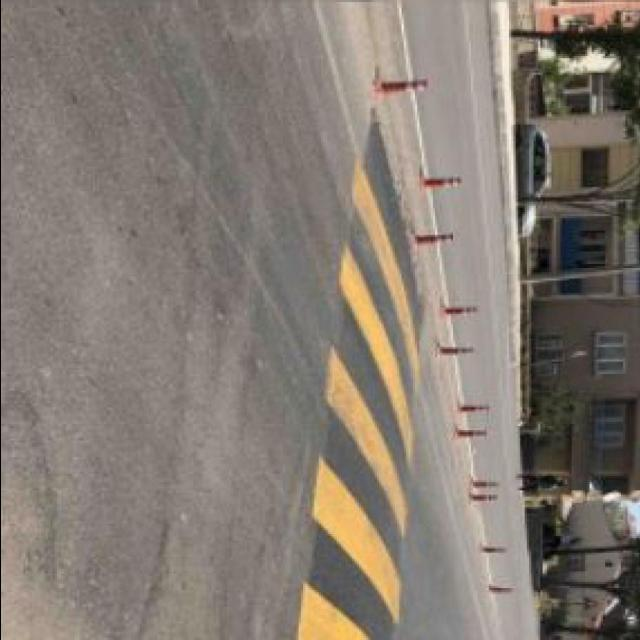Speed_Breaker: (288, 99, 436, 640), (297, 109, 428, 639)
